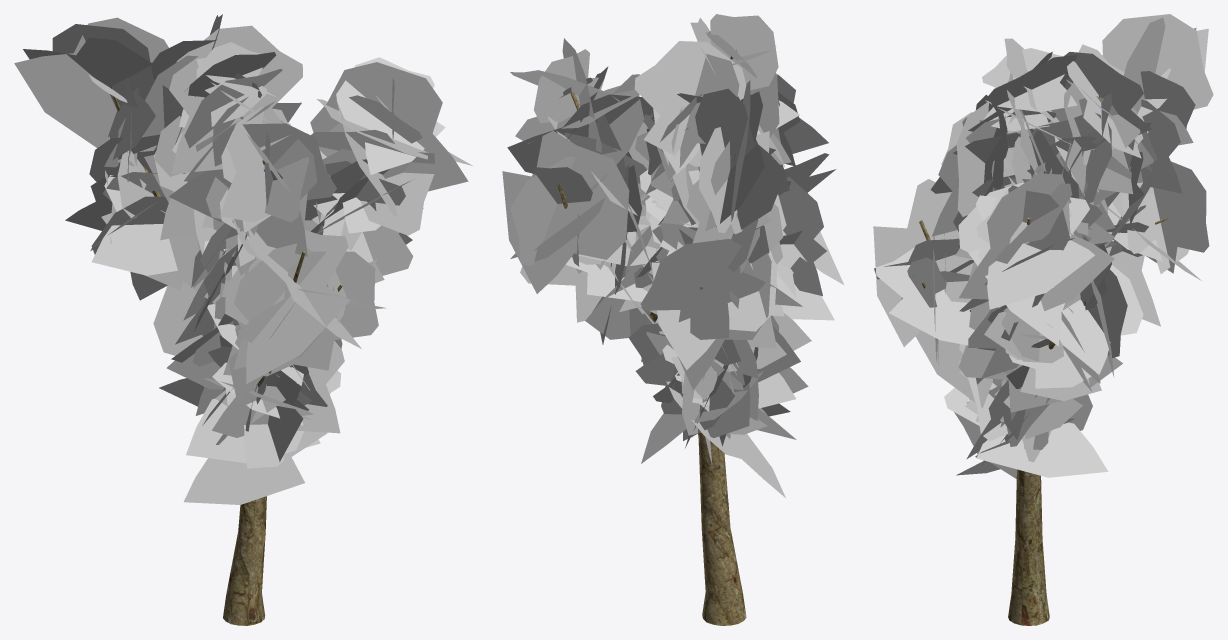
File: Tree1.fbx
3 views of the same model, side by side, from view 1: azimuth 30°, elevation 25°; view 2: azimuth 150°, elevation 25°; view 3: azimuth 270°, elevation 25° (orthographic). The views are drawn at different scales.
Visible parts, largest first — view 1: Tree.001|Branch|Dupli|123, Tree.001|Branch|Dupli|108, Tree.001|Branch|Dupli|67, Tree.001|Branch|Dupli|31, Tree.001|Branch|Dupli|128, Tree.001, Tree.001|Branch|Dupli|2, Tree.001|Branch|Dupli|193, Tree.001|Branch|Dupli|97, Tree.001|Branch|Dupli|195, Tree.001|Branch|Dupli|99, Tree.001|Branch|Dupli|124 (+42 smaller); view 2: Tree.001|Branch|Dupli|82, Tree.001, Tree.001|Branch|Dupli|132, Tree.001|Branch|Dupli|180, Tree.001|Branch|Dupli|108, Tree.001|Branch|Dupli|131, Tree.001|Branch|Dupli|30, Tree.001|Branch|Dupli|124, Tree.001|Branch|Dupli|83, Tree.001|Branch|Dupli|71, Tree.001|Branch|Dupli|66, Tree.001|Branch|Dupli|177 (+50 smaller); view 3: Tree.001|Branch|Dupli|70, Tree.001, Tree.001|Branch|Dupli|125, Tree.001|Branch|Dupli|99, Tree.001|Branch|Dupli|113, Tree.001|Branch|Dupli|127, Tree.001|Branch|Dupli|132, Tree.001|Branch|Dupli|67, Tree.001|Branch|Dupli|80, Tree.001|Branch|Dupli|180, Tree.001|Branch|Dupli|46, Tree.001|Branch|Dupli|36 (+43 smaller).
Boxes of the visible parts, bbox=[...] form: Tree.001|Branch|Dupli|123: bbox=[225, 230, 350, 383]; Tree.001|Branch|Dupli|108: bbox=[14, 17, 168, 148]; Tree.001|Branch|Dupli|67: bbox=[310, 62, 468, 191]; Tree.001|Branch|Dupli|31: bbox=[169, 25, 302, 174]; Tree.001|Branch|Dupli|128: bbox=[237, 251, 378, 370]; Tree.001: bbox=[110, 87, 342, 625]; Tree.001|Branch|Dupli|2: bbox=[184, 431, 327, 504]; Tree.001|Branch|Dupli|193: bbox=[169, 123, 336, 222]; Tree.001|Branch|Dupli|97: bbox=[91, 175, 177, 275]; Tree.001|Branch|Dupli|195: bbox=[220, 106, 288, 222]; Tree.001|Branch|Dupli|99: bbox=[52, 24, 183, 128]; Tree.001|Branch|Dupli|124: bbox=[233, 243, 311, 369]; Tree.001|Branch|Dupli|82: bbox=[502, 131, 629, 293]; Tree.001: bbox=[557, 56, 746, 625]; Tree.001|Branch|Dupli|132: bbox=[640, 239, 776, 322]; Tree.001|Branch|Dupli|180: bbox=[634, 41, 746, 166]; Tree.001|Branch|Dupli|108: bbox=[695, 88, 786, 229]; Tree.001|Branch|Dupli|131: bbox=[651, 223, 777, 370]; Tree.001|Branch|Dupli|30: bbox=[710, 14, 778, 90]; Tree.001|Branch|Dupli|124: bbox=[778, 176, 823, 296]; Tree.001|Branch|Dupli|83: bbox=[510, 156, 645, 273]; Tree.001|Branch|Dupli|71: bbox=[507, 94, 653, 173]; Tree.001|Branch|Dupli|66: bbox=[534, 49, 604, 123]; Tree.001|Branch|Dupli|177: bbox=[657, 53, 739, 180]; Tree.001|Branch|Dupli|70: bbox=[958, 182, 1095, 309]; Tree.001: bbox=[919, 94, 1168, 625]; Tree.001|Branch|Dupli|125: bbox=[873, 179, 973, 346]; Tree.001|Branch|Dupli|99: bbox=[1102, 14, 1213, 146]; Tree.001|Branch|Dupli|113: bbox=[944, 388, 1108, 477]; Tree.001|Branch|Dupli|127: bbox=[876, 247, 974, 345]; Tree.001|Branch|Dupli|132: bbox=[1146, 161, 1209, 273]; Tree.001|Branch|Dupli|67: bbox=[959, 173, 1071, 299]; Tree.001|Branch|Dupli|80: bbox=[1059, 265, 1143, 374]; Tree.001|Branch|Dupli|180: bbox=[1064, 52, 1151, 134]; Tree.001|Branch|Dupli|46: bbox=[958, 301, 1122, 412]; Tree.001|Branch|Dupli|36: bbox=[982, 48, 1077, 111].
Bounding box in the file's own units: 364 × 567 × 307.
